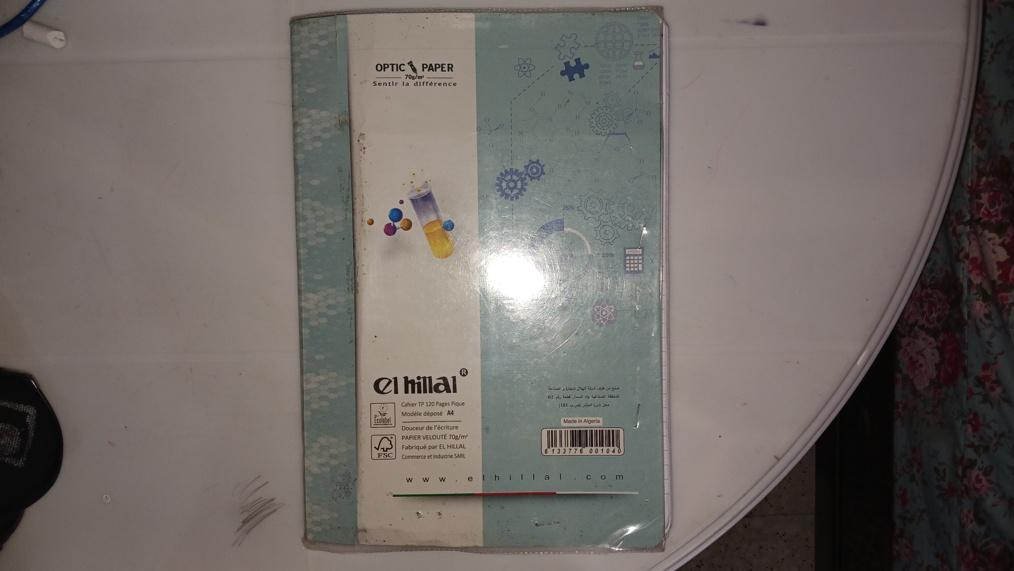notebook: (301, 7, 667, 544)
